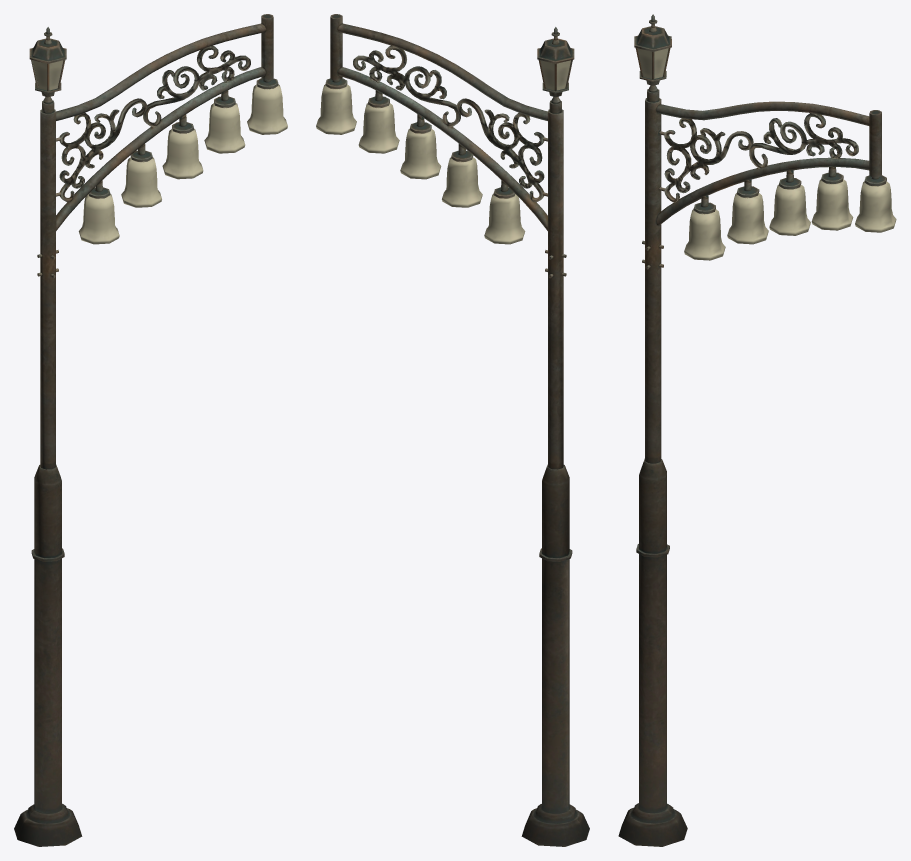
The model's file is lamp.glb.
The picture shows the model from 3 angles, left to right: view 1: azimuth 30°, elevation 25°; view 2: azimuth 150°, elevation 25°; view 3: azimuth 330°, elevation 25°; orthographic projection.
Visible parts, largest first — view 1: LilyOfTheValleyStreetLights_EunbangwoolLamp_0; view 2: LilyOfTheValleyStreetLights_EunbangwoolLamp_0; view 3: LilyOfTheValleyStreetLights_EunbangwoolLamp_0.
Boxes of the visible parts, x1=… form: LilyOfTheValleyStreetLights_EunbangwoolLamp_0: x1=14, y1=14, x2=287, y2=846; LilyOfTheValleyStreetLights_EunbangwoolLamp_0: x1=316, y1=14, x2=589, y2=846; LilyOfTheValleyStreetLights_EunbangwoolLamp_0: x1=618, y1=14, x2=896, y2=846.
Size of the model in its own units: 2.01 by 5.76 by 0.4577.
Materials: 1 (1 with a texture image).
